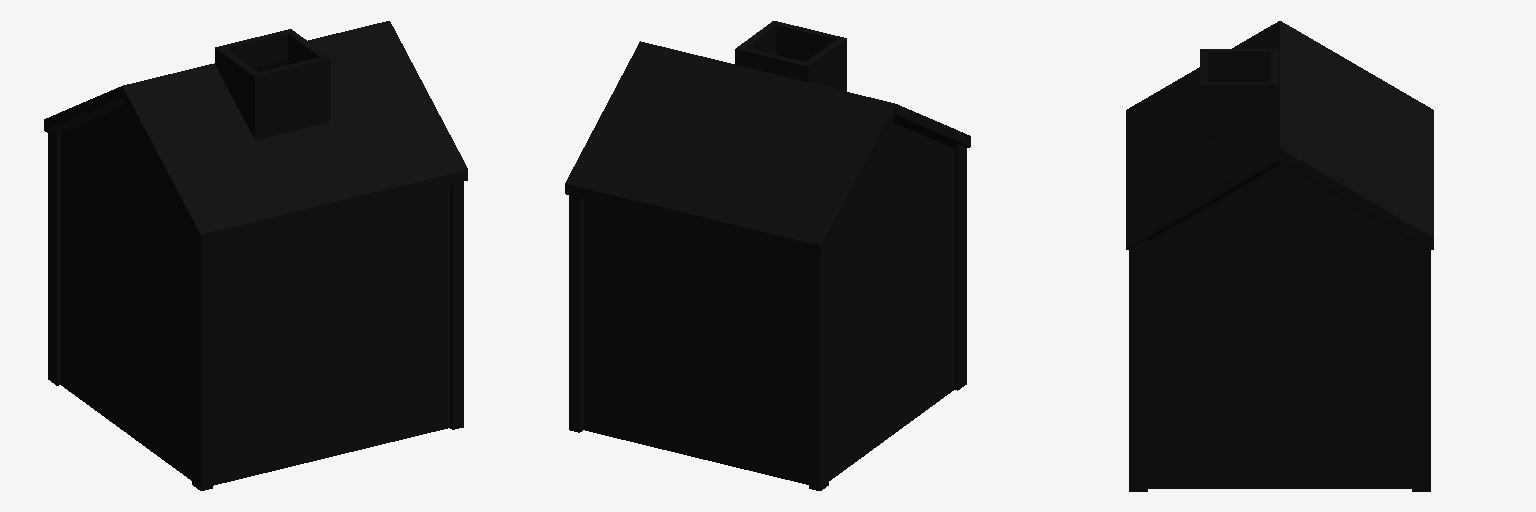
URDF robot description (Stress Test):
<?xml version="1.0"?>
<robot name="Stress Test">

<!-- Base Link -->
<link name="house_link">
    <visual>
        <geometry>
            <mesh filename="../models/House Tissue Box.stl" />
        </geometry>
        <material>
            <color rgba="0.1 0.1 0.1 1.0" />
        </material>
    </visual>
</link>
<link name="arm_link">
    <visual>
        <geometry>
            <mesh filename="../models/Arm.stl" />
        </geometry>
        <material>
            <color rgba="0.1 0.1 0.1 1.0" />
        </material>
    </visual>
</link>

<!-- Joints -->
<!-- Canvas joint -->
<joint name="house_to_canvas" type="continuous">
    <parent link="house_link" />
    <child link="arm_link" />
    <origin xyz="0 0 0.75" rpy="0 0 0" />
    <axis xyz="0 0 1" />
    <limit effort="10" velocity="0.1" />
</joint>

</robot>

--- Facts derived from the render (not from the file) ---
The picture shows the robot from 3 angles, left to right: view 1: azimuth 30°, elevation 25°; view 2: azimuth 150°, elevation 25°; view 3: azimuth 270°, elevation 25°; orthographic projection.
Model Stress Test with 2 links and 1 joints (1 continuous), rooted at house_link, posed all joints at 0.
Visible links, largest first — view 1: house_link; view 2: house_link; view 3: house_link.
Boxes of the visible links, x1,y1,x2,y2 form: house_link: (44, 21, 467, 490); house_link: (565, 21, 970, 490); house_link: (1126, 21, 1433, 491).
Bounding box of the posed robot: 116 × 118 × 152 m (x, y, z).
Meshes: 2 distinct files referenced, 2 mesh visuals loaded (2 binary STL).
